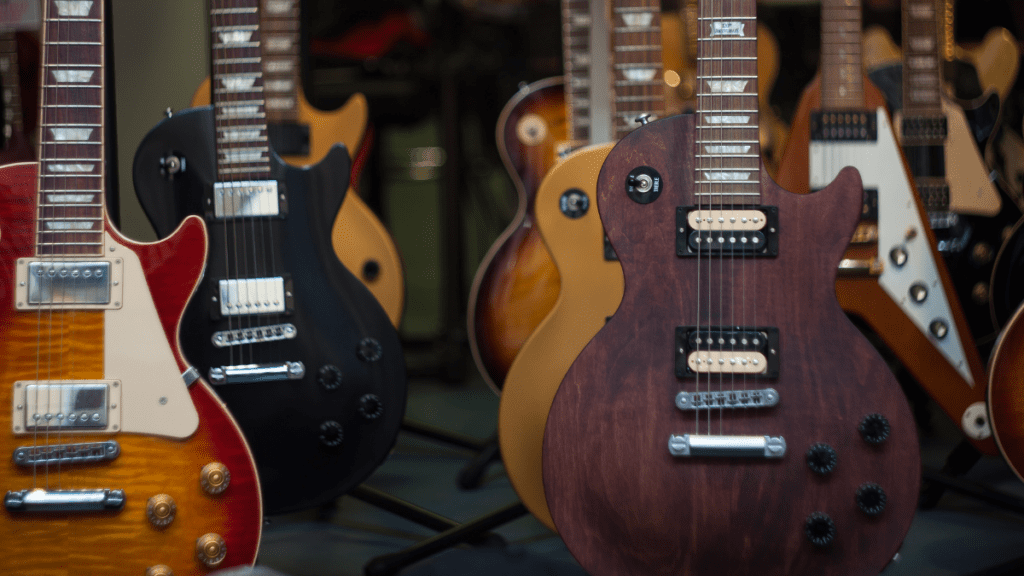guitar: (482, 5, 921, 576), (0, 1, 263, 576), (126, 0, 410, 522)
